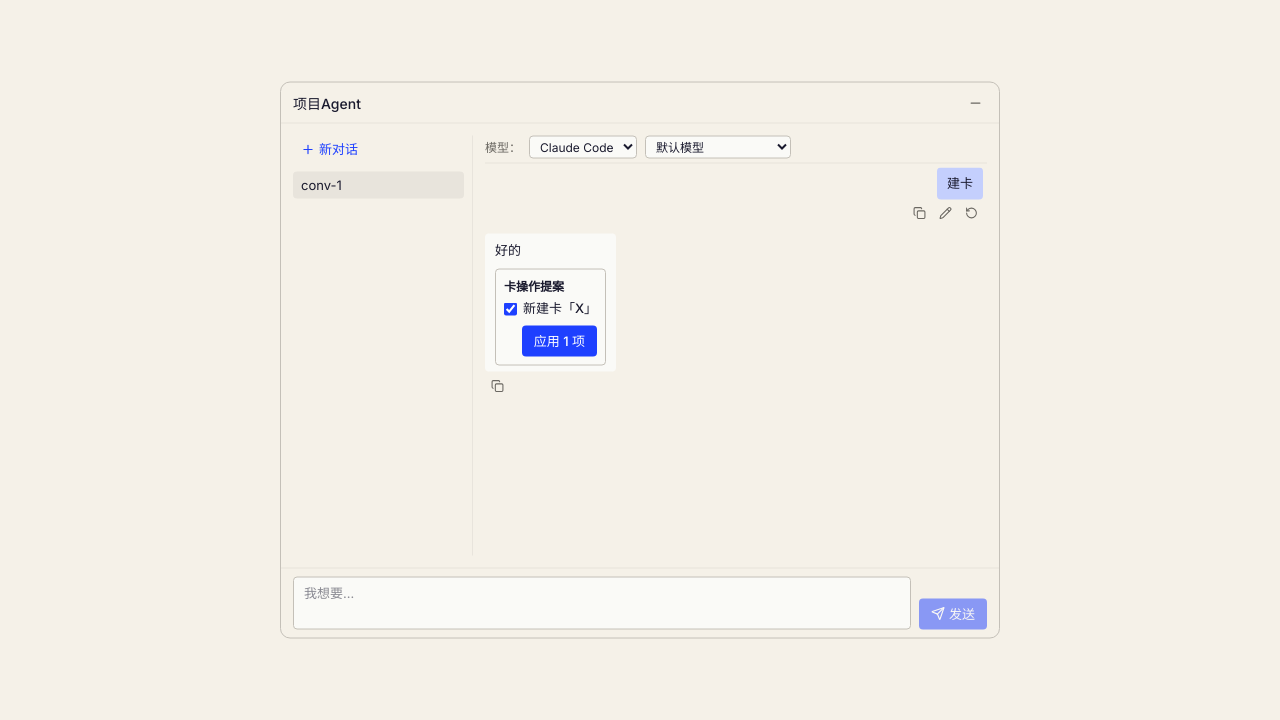
全局对话入口与面板 › 非破坏性提案 → 直接应用（confirmedDestructive=false）
The width and height of the screenshot is (1280, 720).
Click the button "应用 1 项" at (559, 341), box [522, 325, 597, 356]
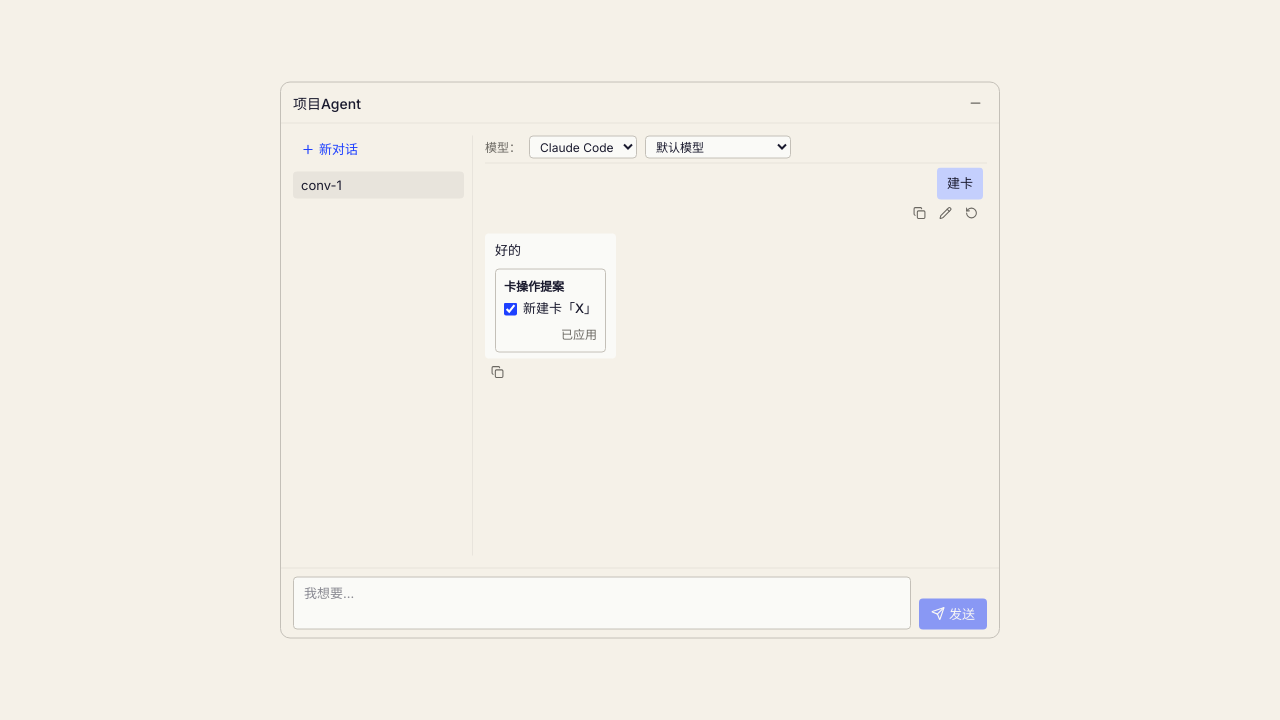
Now the text "已应用" is shown, box [561, 325, 597, 343]
